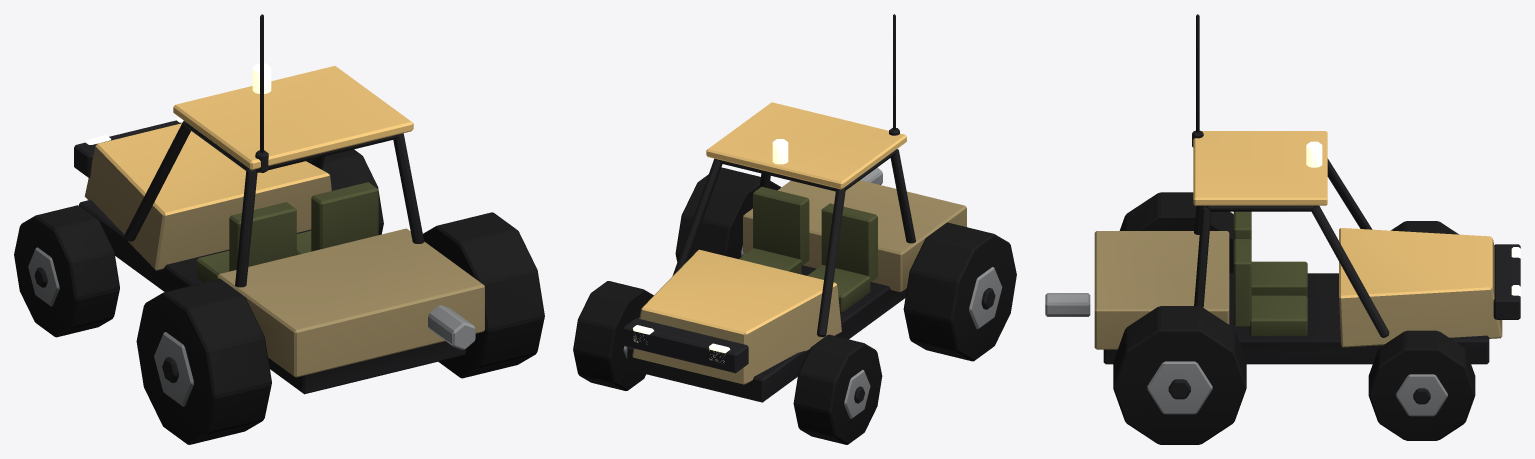
The model's file is scout_buggy.glb.
The picture shows the model from 3 angles, left to right: view 1: azimuth 30°, elevation 25°; view 2: azimuth 150°, elevation 25°; view 3: azimuth 270°, elevation 25°; orthographic projection. The views are drawn at different scales.
Parts seen in each view (by area): view 1: scout_buggy; view 2: scout_buggy; view 3: scout_buggy.
Boxes of the visible parts, box(x1,y1,x2,y2) form: scout_buggy: box(14, 14, 544, 444); scout_buggy: box(573, 14, 1016, 444); scout_buggy: box(1045, 14, 1520, 444).
Size of the model in its own units: 0.76 by 0.8241 by 1.06.
